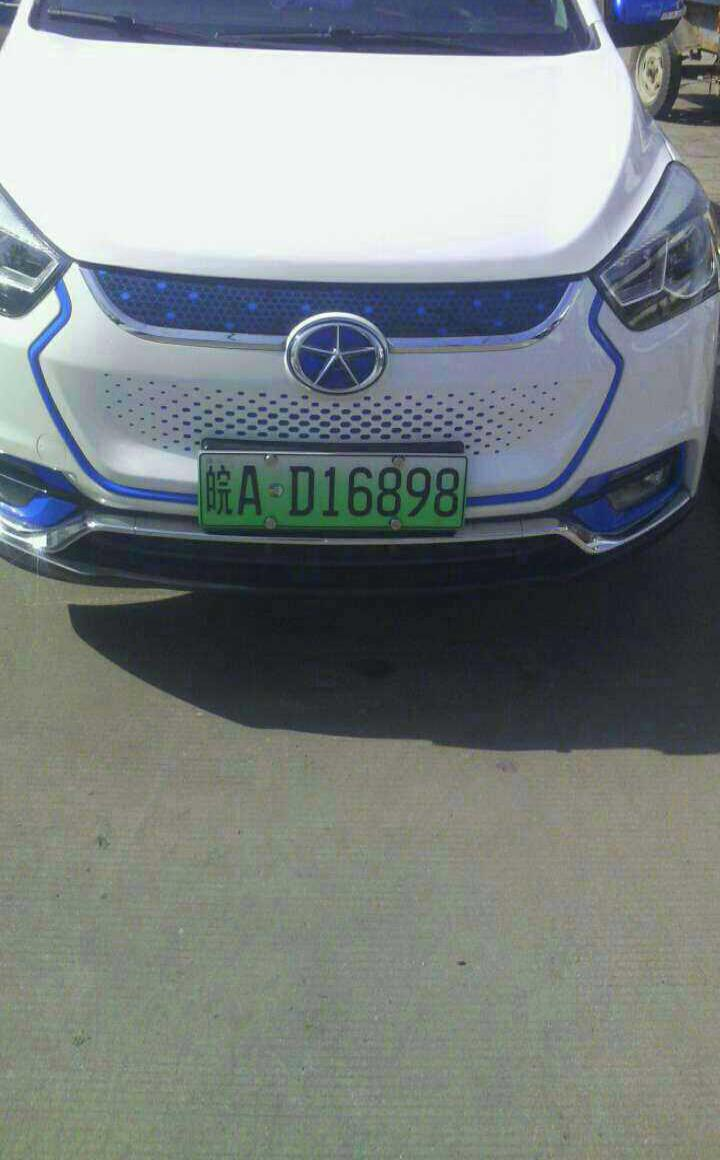car_green: (191, 447, 471, 537)
